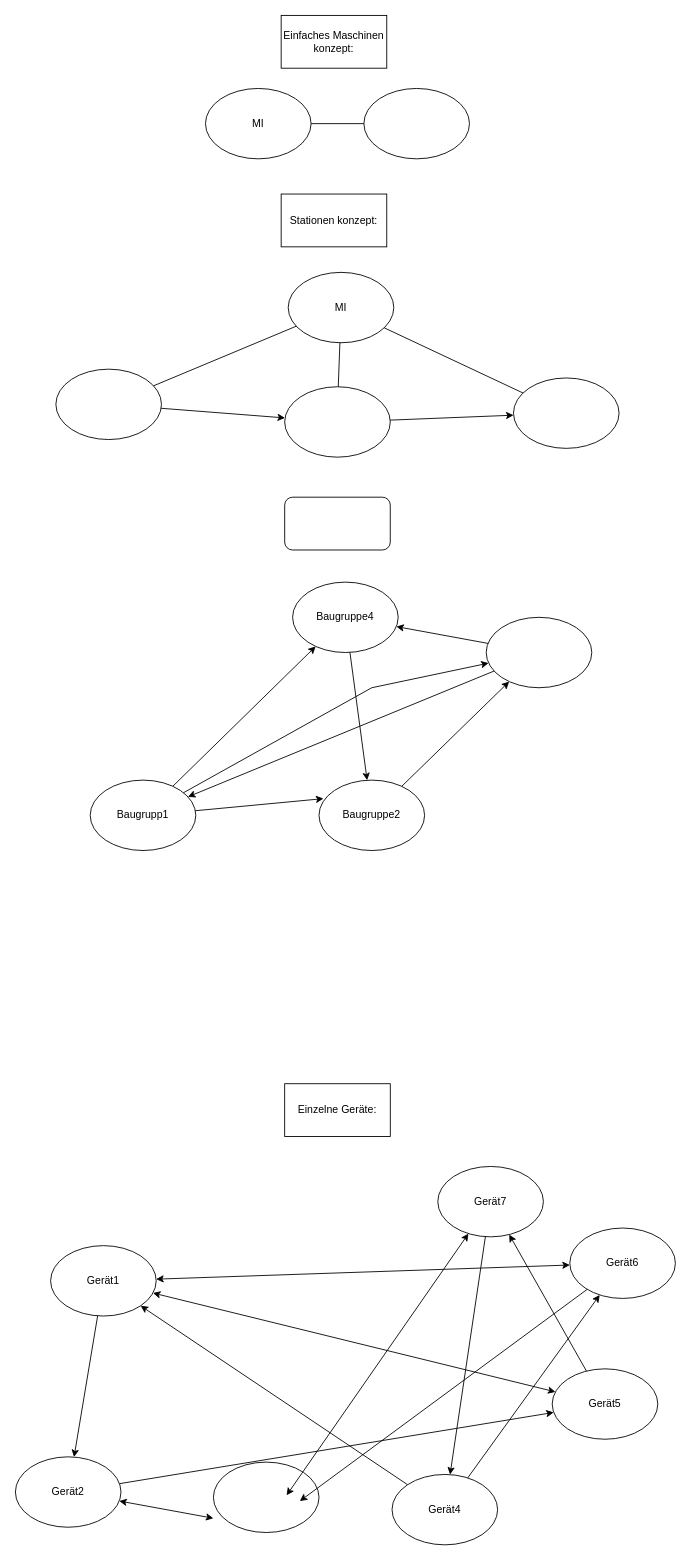
Image size: 691x1560. Some labels were removed from this diagram. Each missing label, with the centre of its shape:
Baugruppe3: the point at 538,652
Baugruppen konzept:: the point at 337,523
Gerät3: the point at 266,1497
Maschine: the point at 416,123
Station1: the point at 108,404
Station2: the point at 337,421
Station3: the point at 566,412
